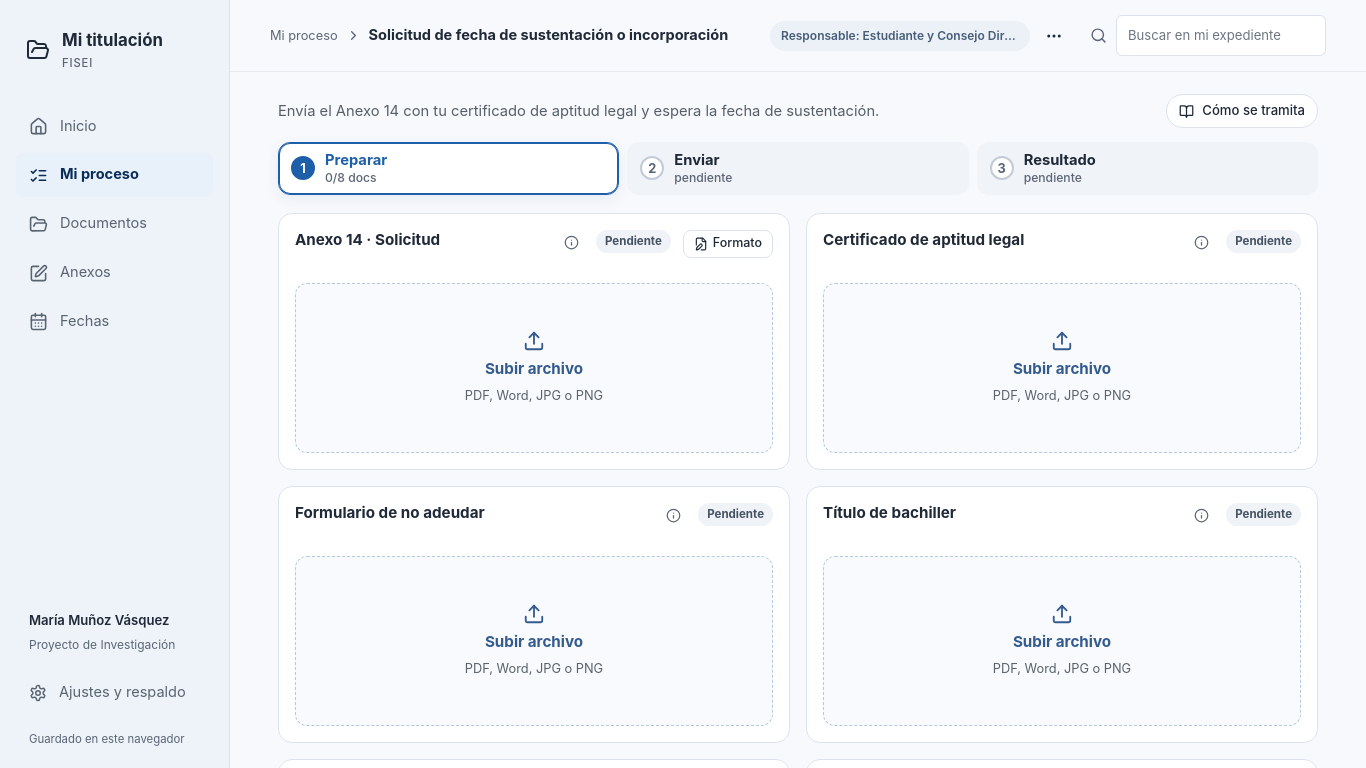
fills the Anexo 14 of the student modality with address and institutional email
The image size is (1366, 768).
Expected: the button "Cómo se tramita" is shown, [1166, 94, 1318, 128]
Click the button "Formato" at (728, 244), box [683, 230, 773, 258]
(page scrolled)
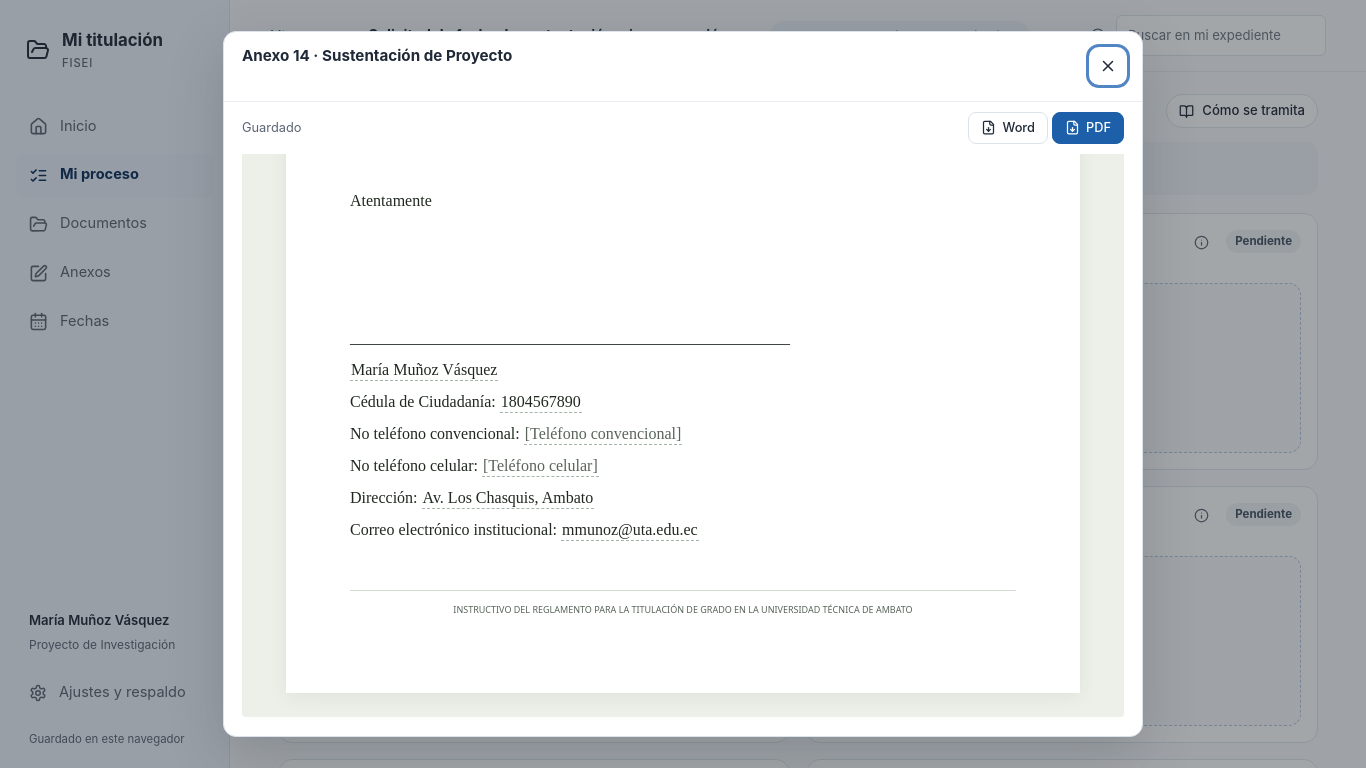
Result: the field named "Dirección" reads "Av. Los Chasquis, Ambato" at [422, 489, 593, 506]
Result: the text "Correo electrónico institucional: mmunoz@uta.edu.ec" is shown at [350, 519, 699, 541]
